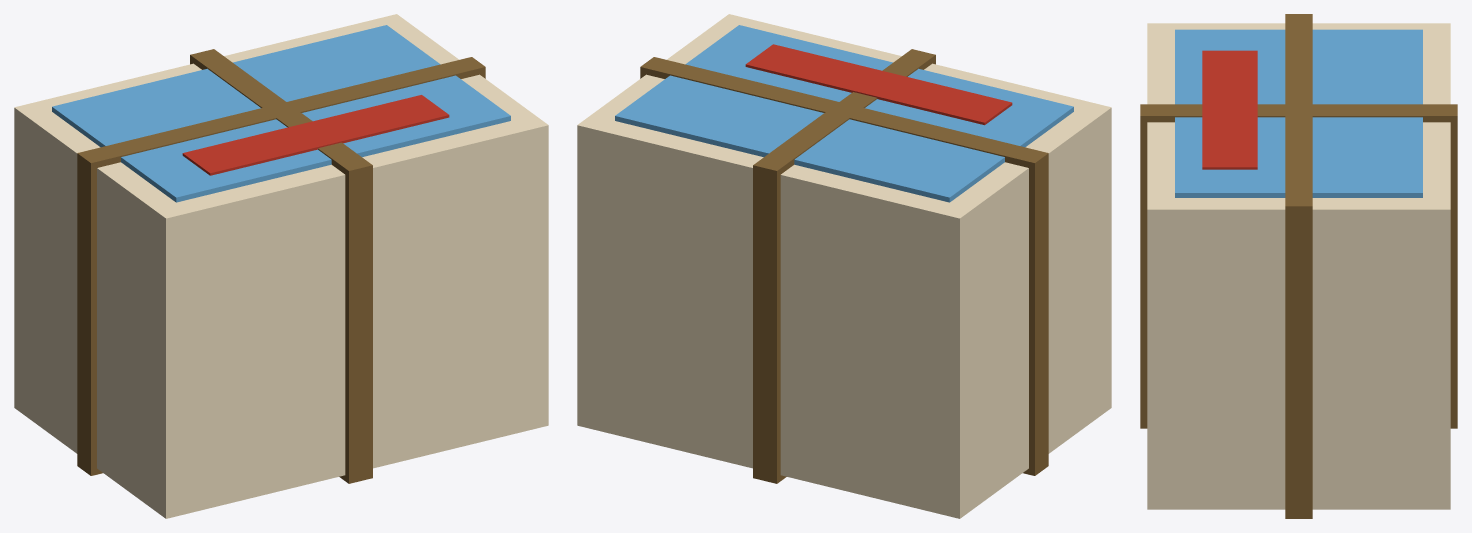
The model's file is postcards.glb.
The picture shows the model from 3 angles, left to right: view 1: azimuth 30°, elevation 25°; view 2: azimuth 150°, elevation 25°; view 3: azimuth 270°, elevation 25°; orthographic projection.
Parts seen in each view (by area): view 1: cards_postcard, cards_postcard_sky, string_cord, cards_label_red; view 2: cards_postcard, cards_postcard_sky, string_cord, cards_label_red; view 3: cards_postcard, cards_postcard_sky, string_cord, cards_label_red.
Part boxes in pixels (<box>): cards_postcard: <box>14,14,548,518</box>; cards_postcard_sky: <box>52,25,510,202</box>; string_cord: <box>77,49,485,483</box>; cards_label_red: <box>182,95,449,175</box>; cards_postcard: <box>577,14,1111,518</box>; cards_postcard_sky: <box>615,25,1073,202</box>; string_cord: <box>640,49,1048,483</box>; cards_label_red: <box>745,44,1012,125</box>; cards_postcard: <box>1147,23,1450,509</box>; cards_postcard_sky: <box>1175,29,1422,197</box>; string_cord: <box>1140,14,1457,518</box>; cards_label_red: <box>1202,50,1257,169</box>.
Bounding box in the file's own units: 0.165 × 0.1255 × 0.115.
